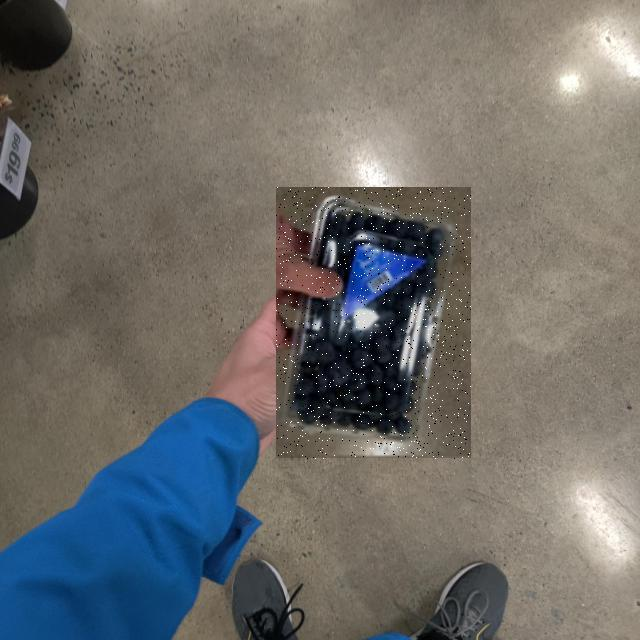Blue Berries: (276, 188, 471, 460)
